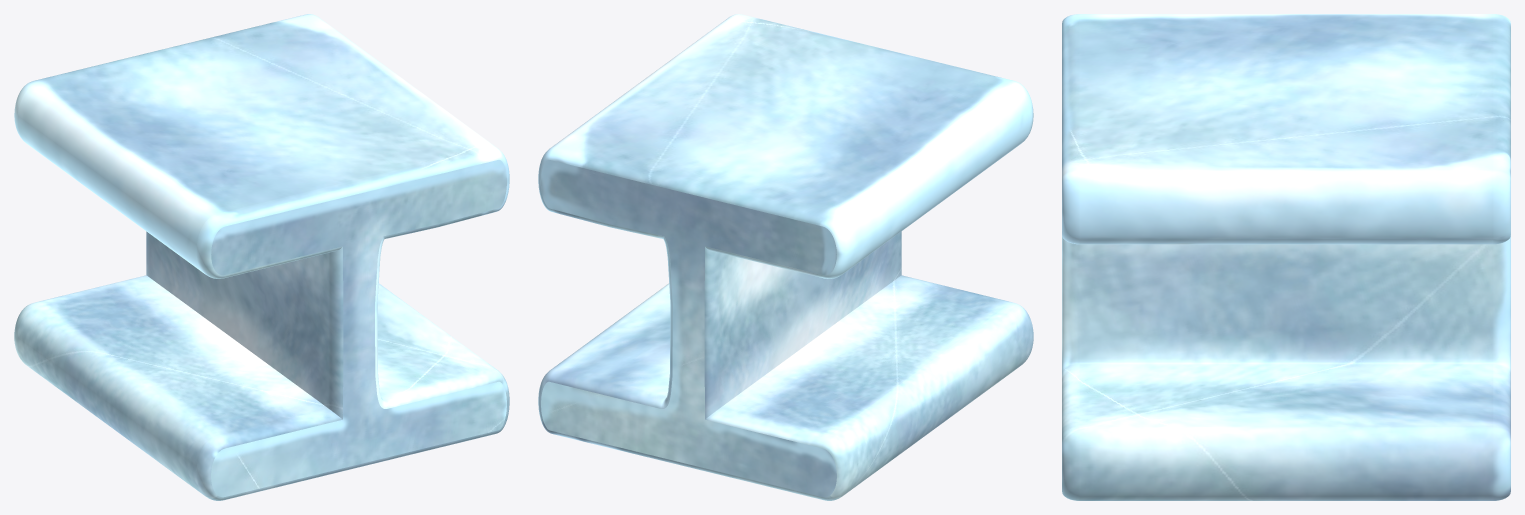
File: metal18.gltf
3 renders of one model, left to right at view 1: azimuth 30°, elevation 25°; view 2: azimuth 150°, elevation 25°; view 3: azimuth 270°, elevation 25°, orthographic. The views are drawn at different scales.
Parts seen in each view (by area): view 1: Metal; view 2: Metal; view 3: Metal.
Part boxes in pixels (bbox=[...]): Metal: bbox=[14, 14, 509, 500]; Metal: bbox=[538, 14, 1033, 500]; Metal: bbox=[1062, 14, 1510, 500].
Size of the model in its own units: 4 by 3.52 by 4.34.
Materials: 1 (1 with a texture image).
